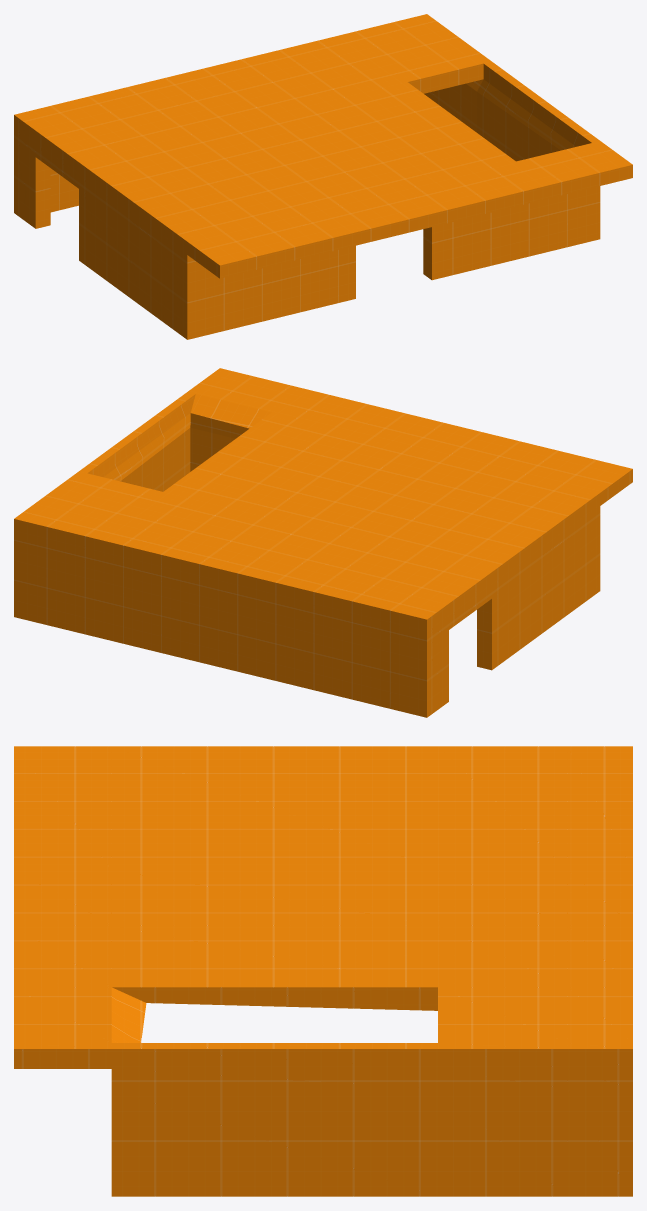
The model's file is OrangeStackableHouse-col.GLB.
3 views of the same model, one above another, from view 1: azimuth 30°, elevation 25°; view 2: azimuth 150°, elevation 25°; view 3: azimuth 270°, elevation 25° (orthographic). The views are drawn at different scales.
Visible parts, largest first — view 1: OrangeStackableHouse-col; view 2: OrangeStackableHouse-col; view 3: OrangeStackableHouse-col.
Part boxes in pixels (left/top/right/bottom): OrangeStackableHouse-col: left=14, top=14, right=632, bottom=339; OrangeStackableHouse-col: left=14, top=368, right=632, bottom=717; OrangeStackableHouse-col: left=14, top=746, right=632, bottom=1196.
Size of the model in its own units: 11 by 2.5 by 9.5.
Materials: 1 (1 with a texture image).
